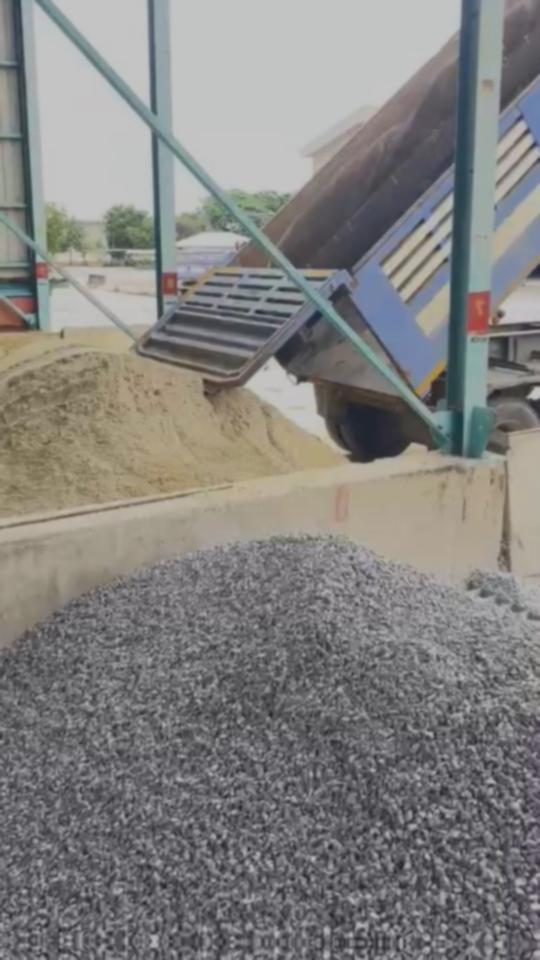gravel: (0, 537, 540, 944), (466, 571, 540, 618)
sand: (0, 348, 343, 522), (0, 343, 55, 401)
